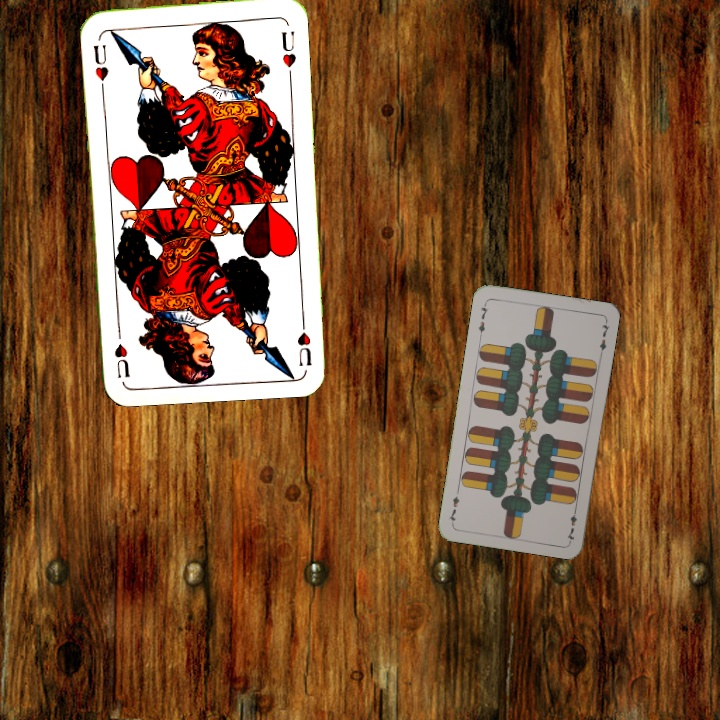E7: (474, 298, 491, 339), (563, 503, 579, 543)
HU: (293, 311, 314, 369), (89, 41, 111, 83)
